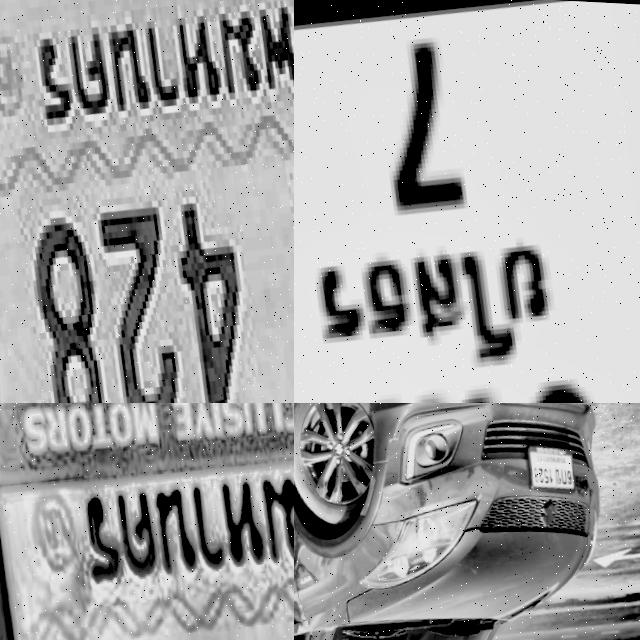license-plate: (294, 0, 640, 403), (0, 0, 294, 403), (0, 403, 294, 640), (524, 433, 578, 492)
